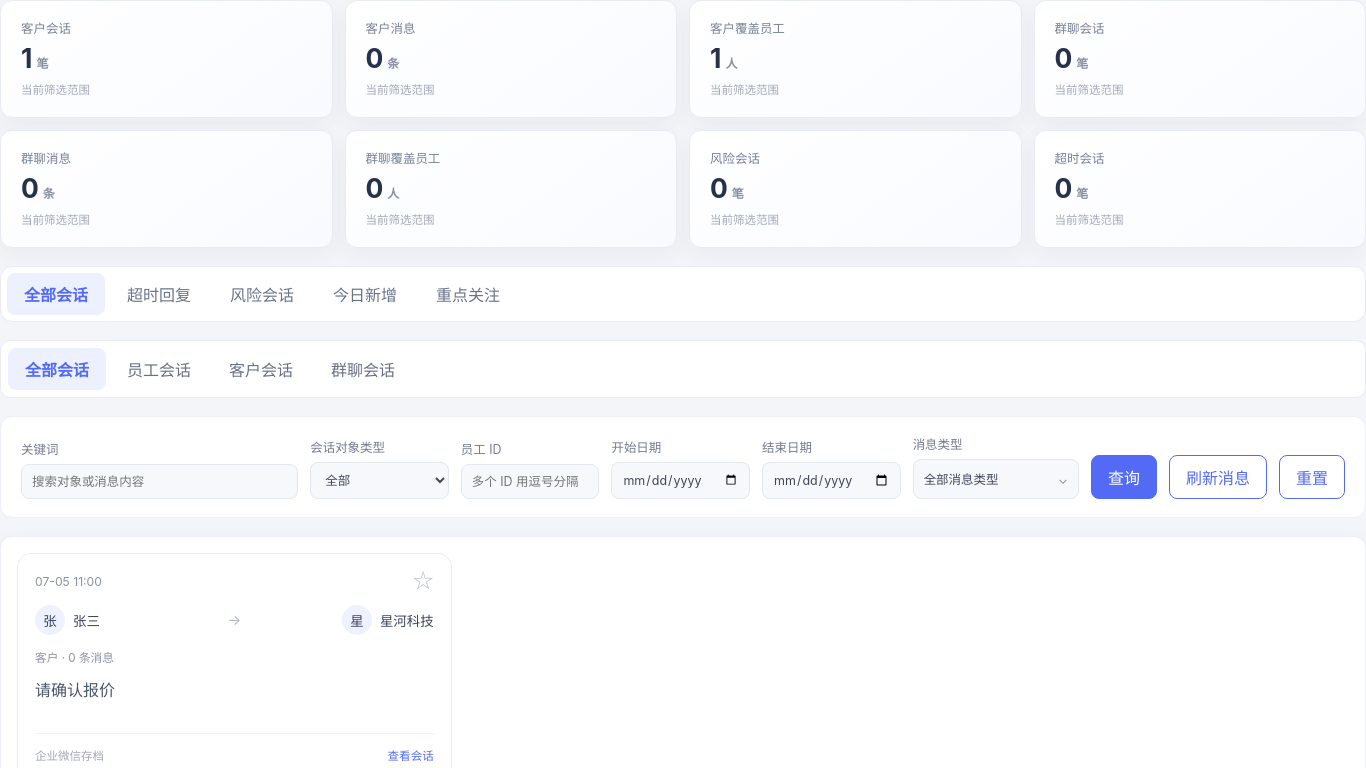
Scenario: ConversationGlobalPage › writes timeout and risk buckets into the URL when their tabs are clicked
The image size is (1366, 768).
Expected: the text "星河科技" is shown, [380, 610, 434, 630]
Click the button "超时回复" at (159, 294), box [110, 273, 208, 315]
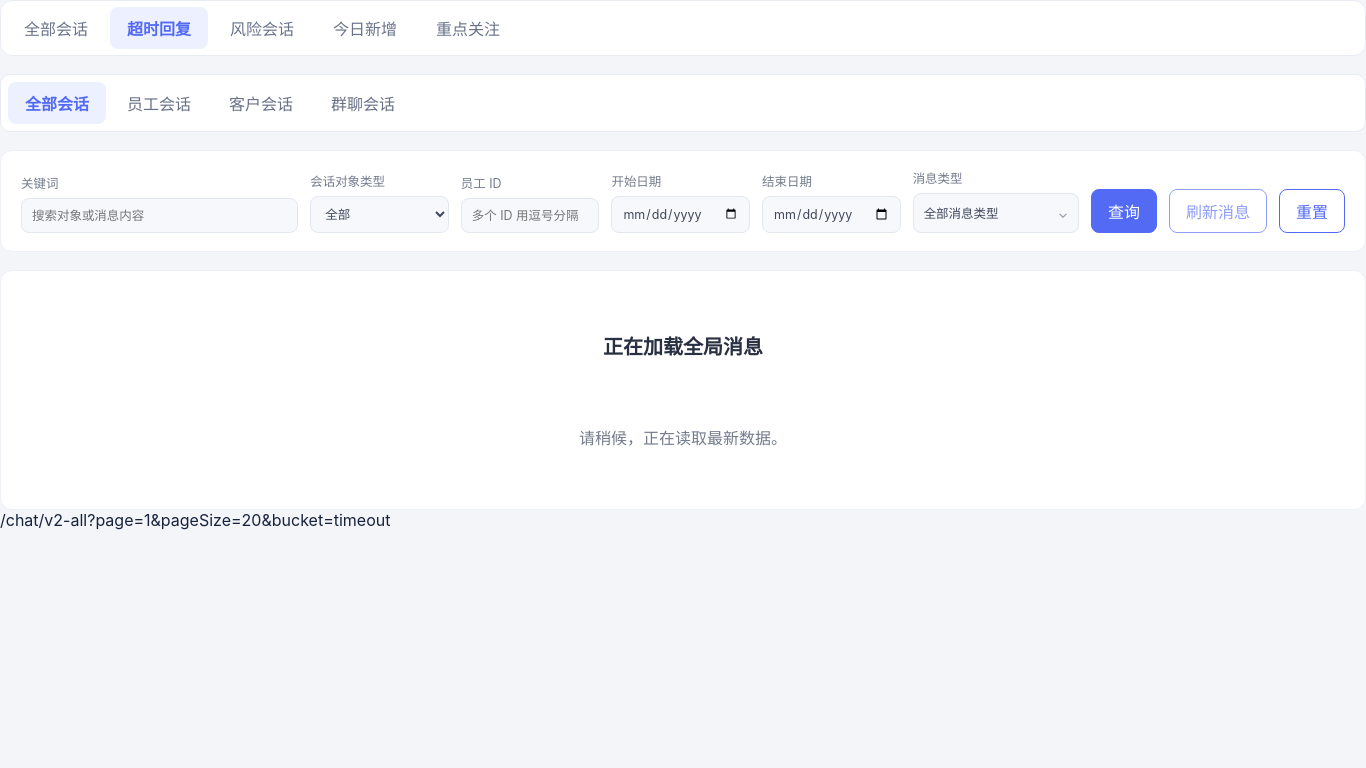
Expected: the text named "当前地址" shows "bucket=timeout", [87, 510, 390, 530]
Click the button "风险会话" at (262, 28), box [213, 7, 311, 49]
(page scrolled)
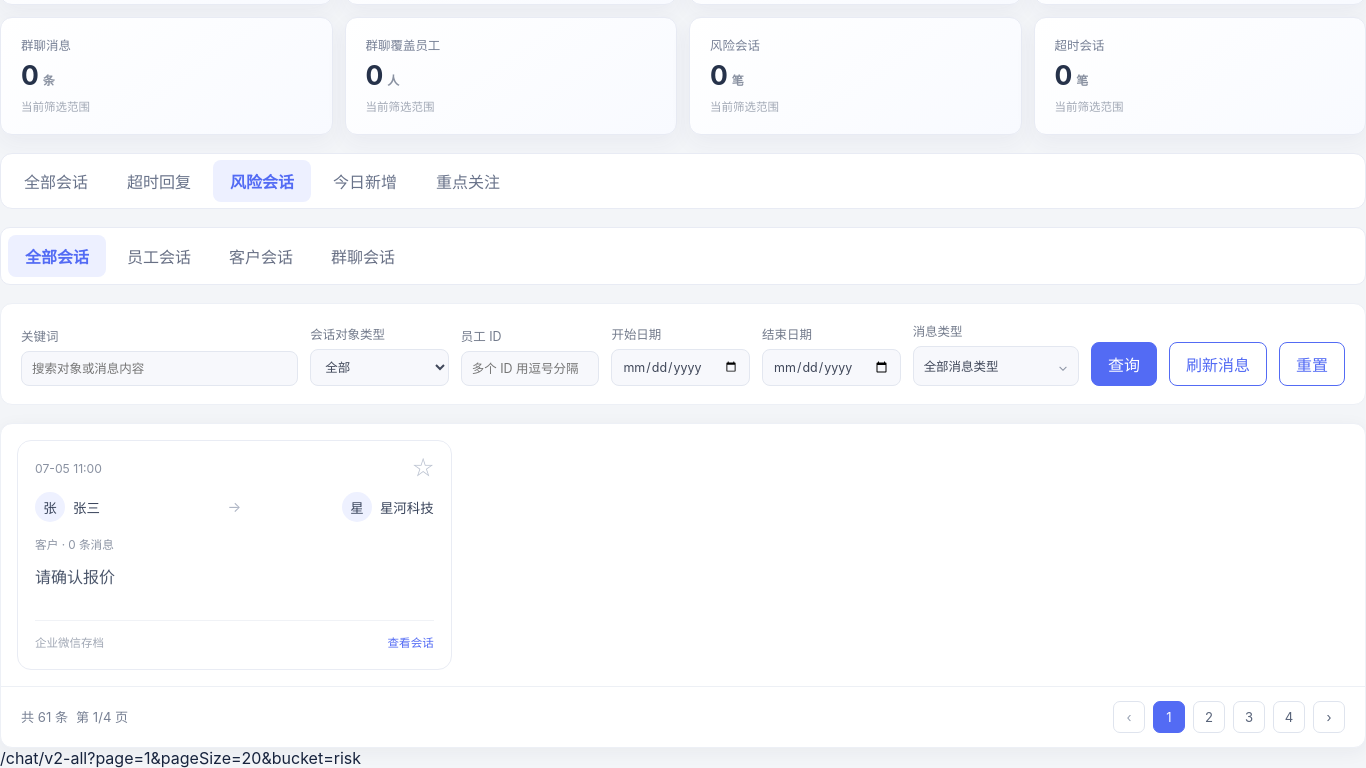
Expected: the text named "当前地址" shows "bucket=risk", [87, 748, 361, 767]
